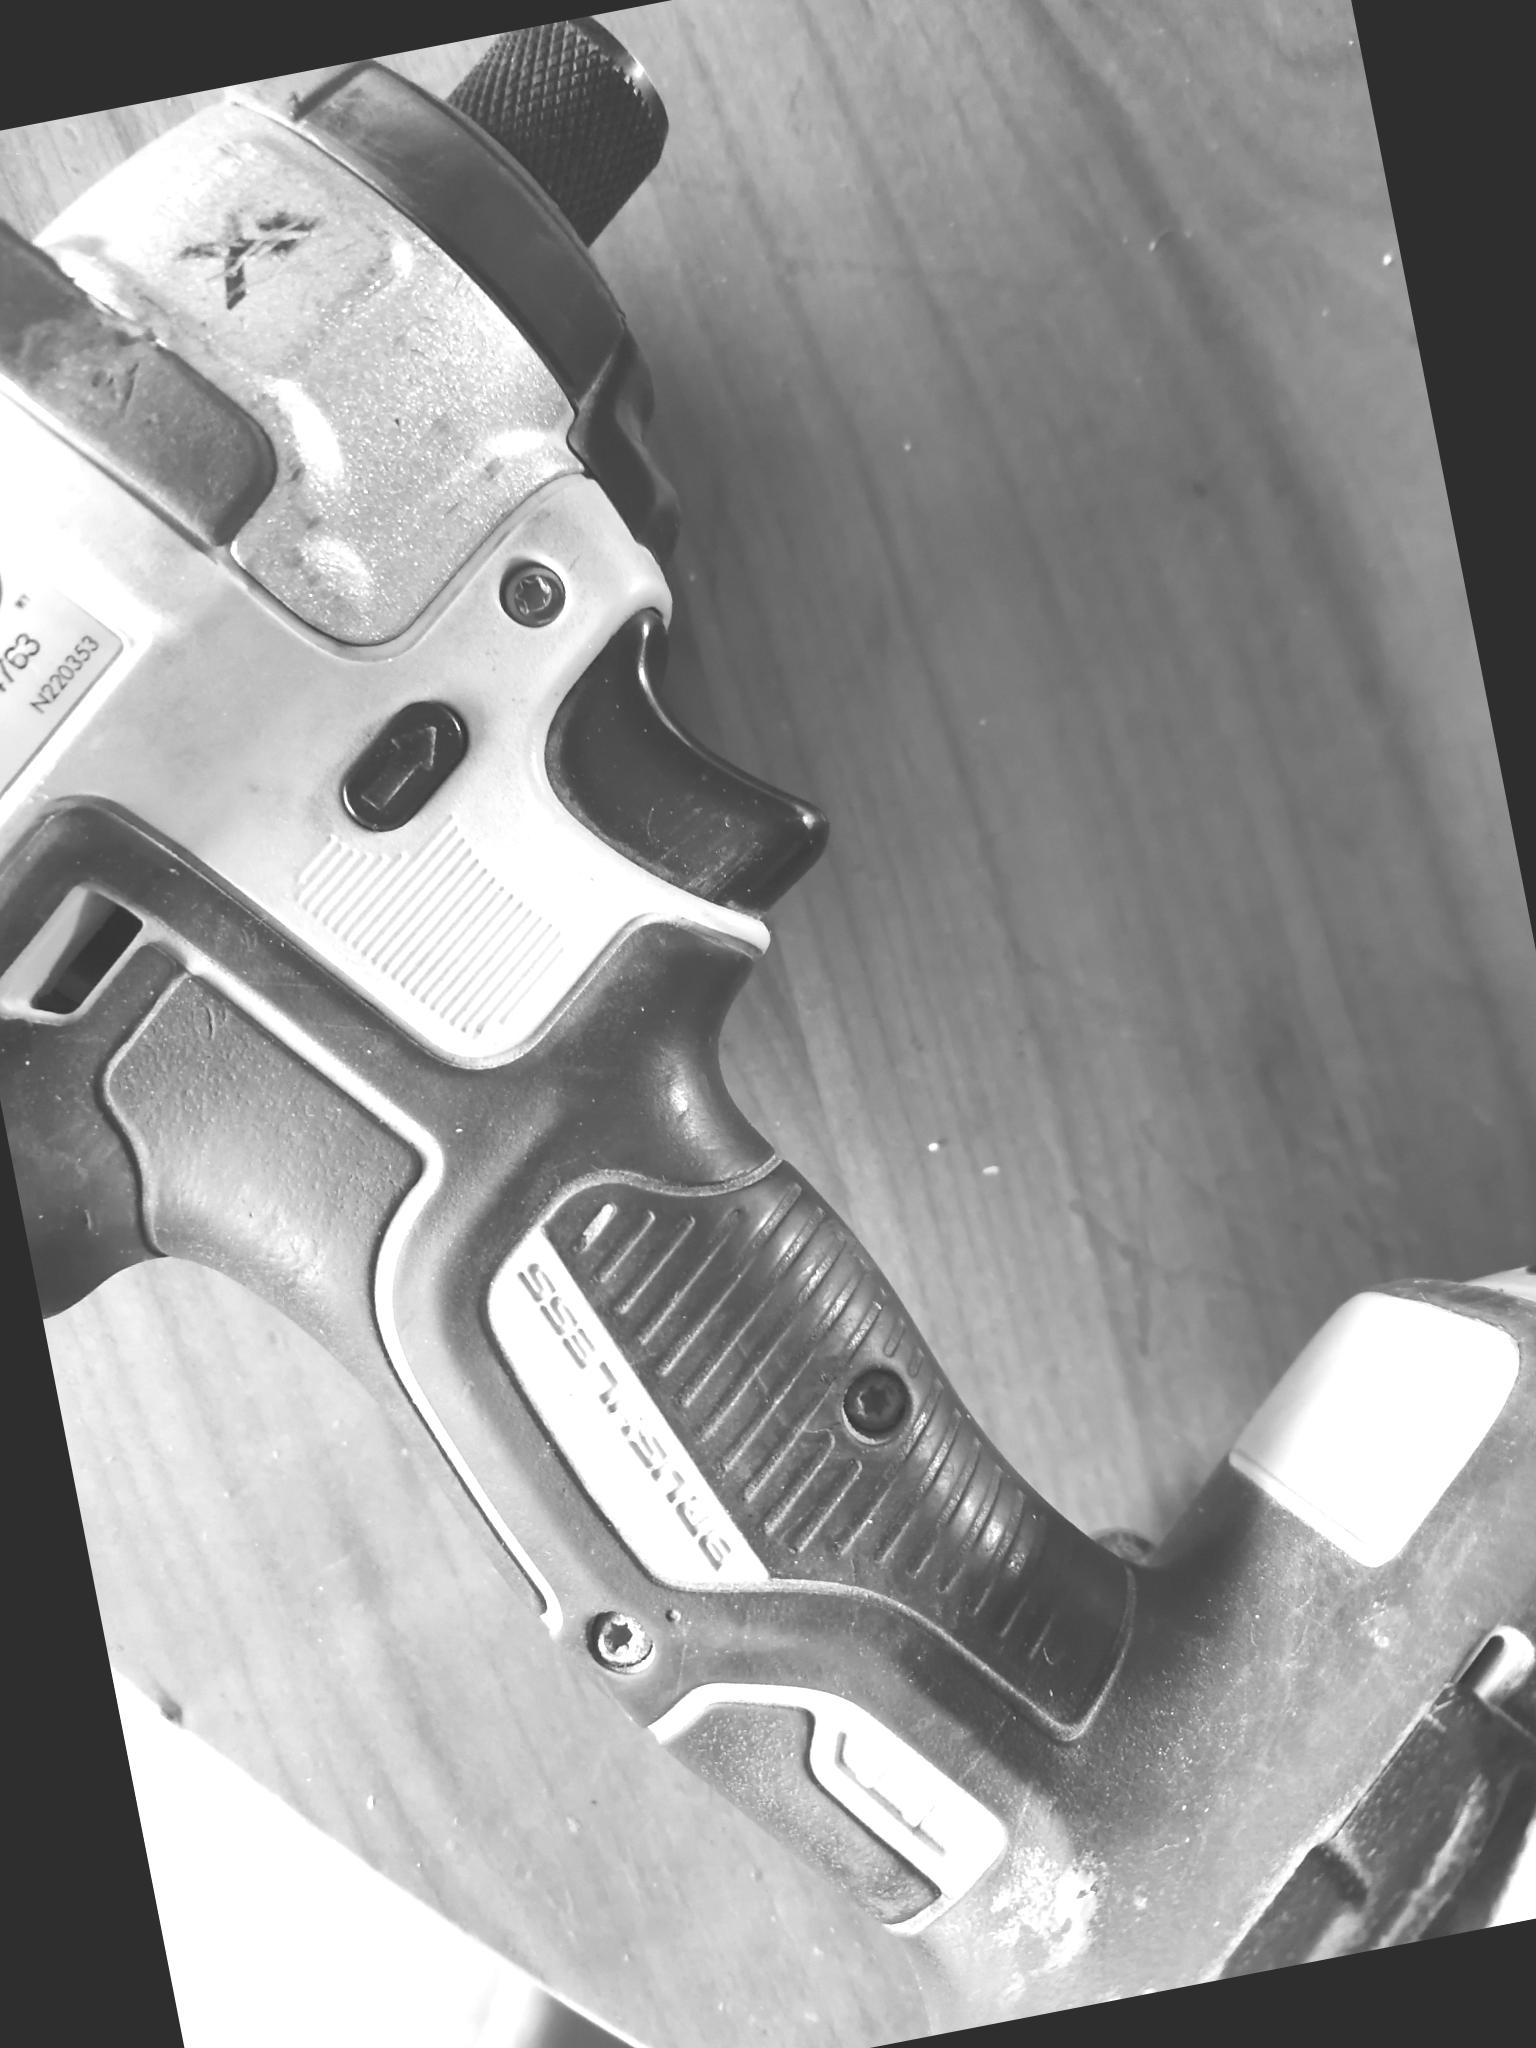screw: (829, 1361, 925, 1450), (578, 1595, 666, 1685), (484, 553, 576, 635)
